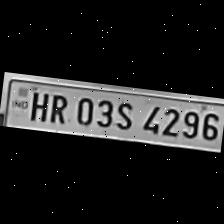0: (70, 92, 96, 127)
2: (156, 104, 181, 138)
3: (92, 94, 114, 130)
4: (136, 100, 163, 136)
6: (196, 108, 222, 142)
9: (177, 106, 200, 140)
H: (26, 87, 49, 123)
R: (44, 90, 70, 126)
S: (112, 98, 134, 132)
